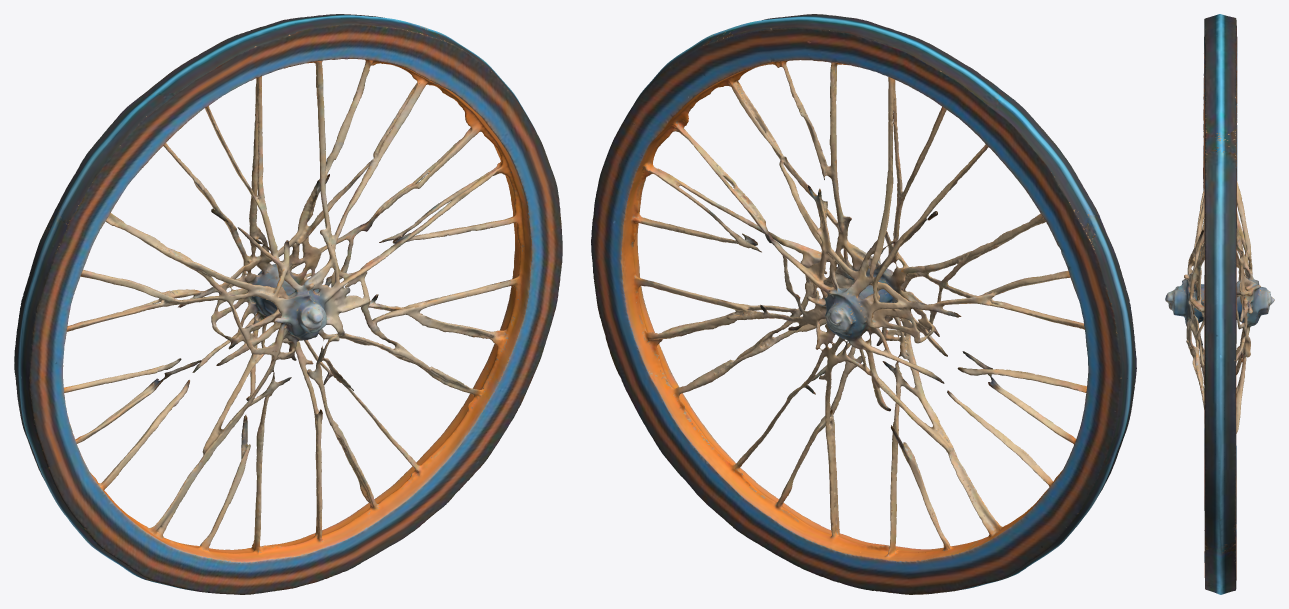
Rendered from skinny-wheel.glb.
3 views of the same model, side by side, from view 1: azimuth 30°, elevation 25°; view 2: azimuth 150°, elevation 25°; view 3: azimuth 270°, elevation 25° (orthographic). The views are drawn at different scales.
Bounding box in the file's own units: 2 × 2 × 0.3791.
1 material, 1 textured.
